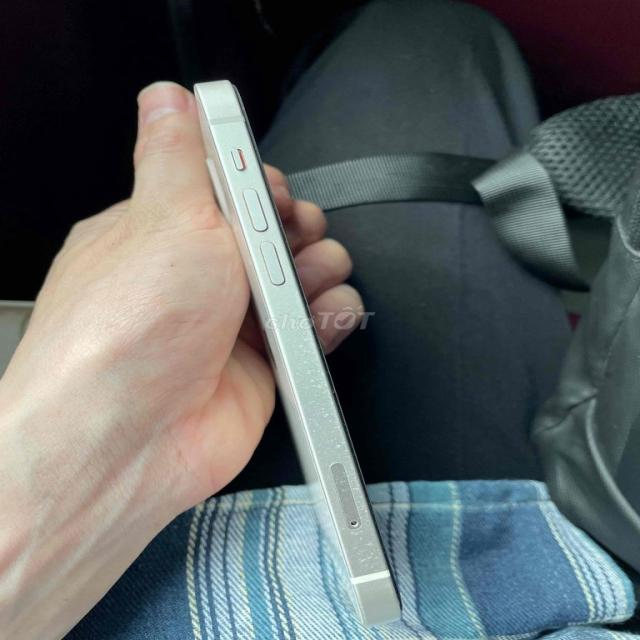gen_12_13: (194, 81, 398, 625)
